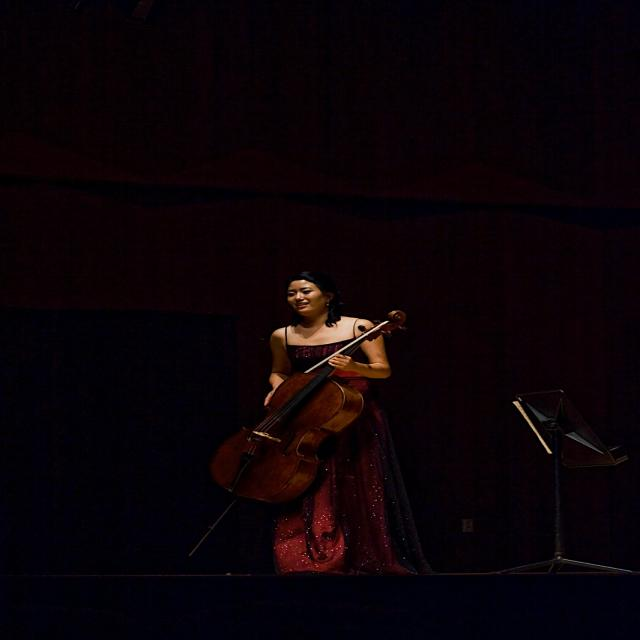cello: (208, 311, 409, 504)
